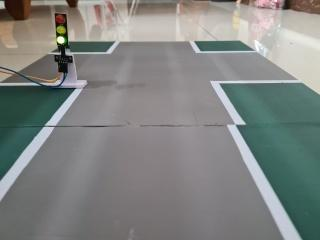green: (46, 7, 77, 55)
